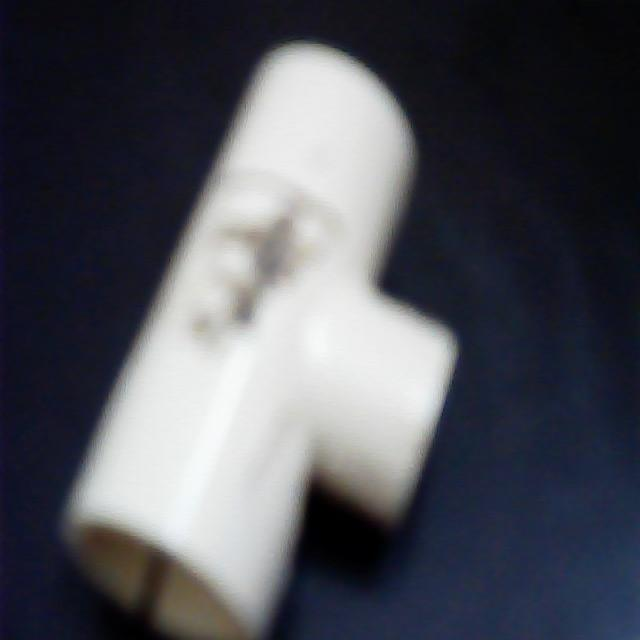Defective: (248, 180, 336, 351), (122, 559, 187, 629)
T Joint: (60, 39, 456, 640)
